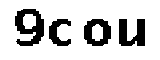9: (9, 5, 43, 50)
c: (45, 16, 76, 50)
o: (79, 14, 112, 51)
u: (115, 13, 150, 51)
